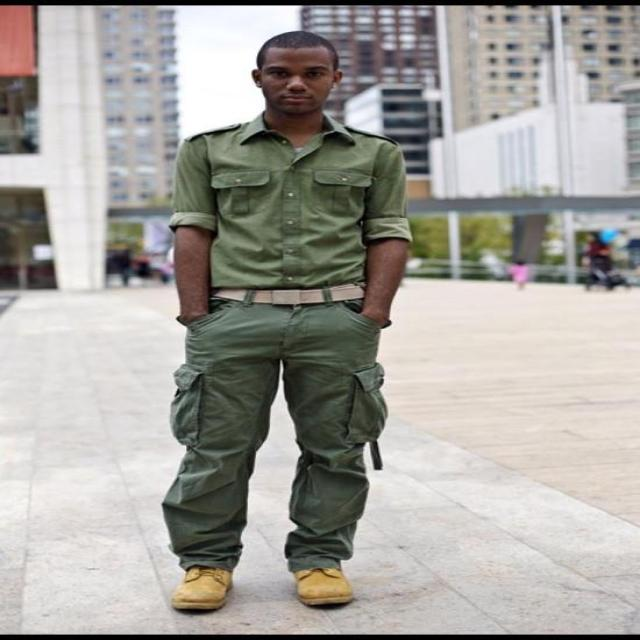pants: (160, 285, 389, 568)
shirt: (165, 112, 410, 290)
